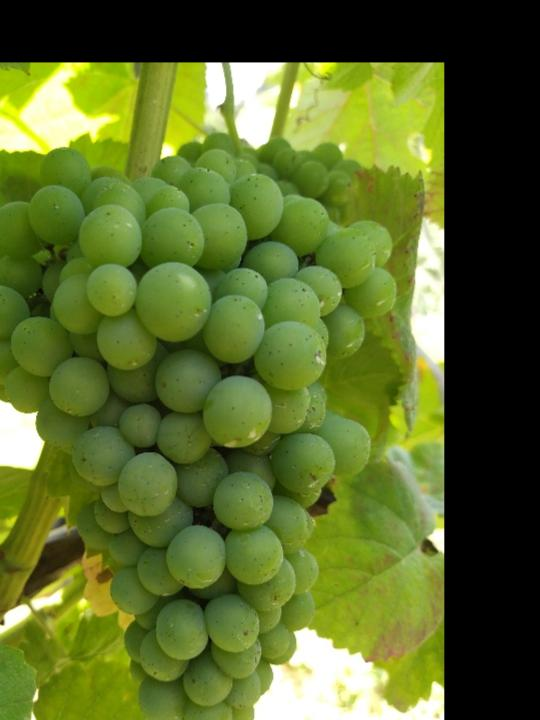grape: (0, 145, 397, 720)
